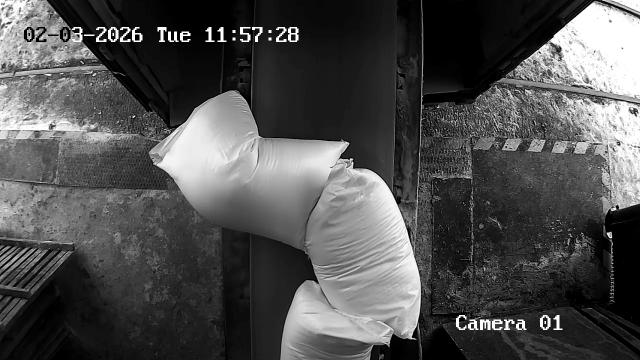bag: (149, 90, 350, 250), (306, 158, 422, 340), (280, 281, 373, 360)
